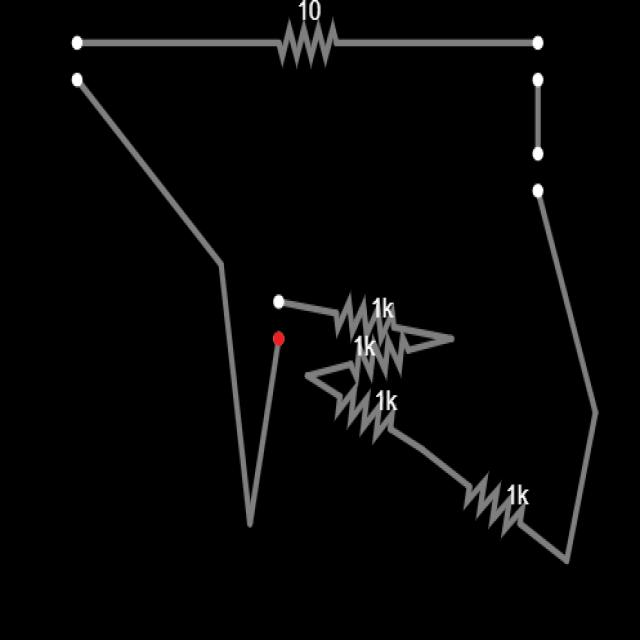Resistor: (334, 283, 400, 347), (464, 474, 525, 537), (337, 382, 397, 446), (350, 326, 410, 390), (278, 19, 338, 67)
Wire: (73, 71, 223, 267), (530, 183, 600, 419), (219, 267, 255, 530), (248, 330, 285, 531), (563, 415, 598, 569), (388, 425, 466, 486), (70, 37, 281, 57), (334, 35, 541, 49), (517, 520, 567, 565), (272, 294, 339, 315), (388, 322, 453, 343), (410, 331, 457, 357), (306, 376, 345, 403), (305, 361, 355, 381), (532, 74, 542, 160)
